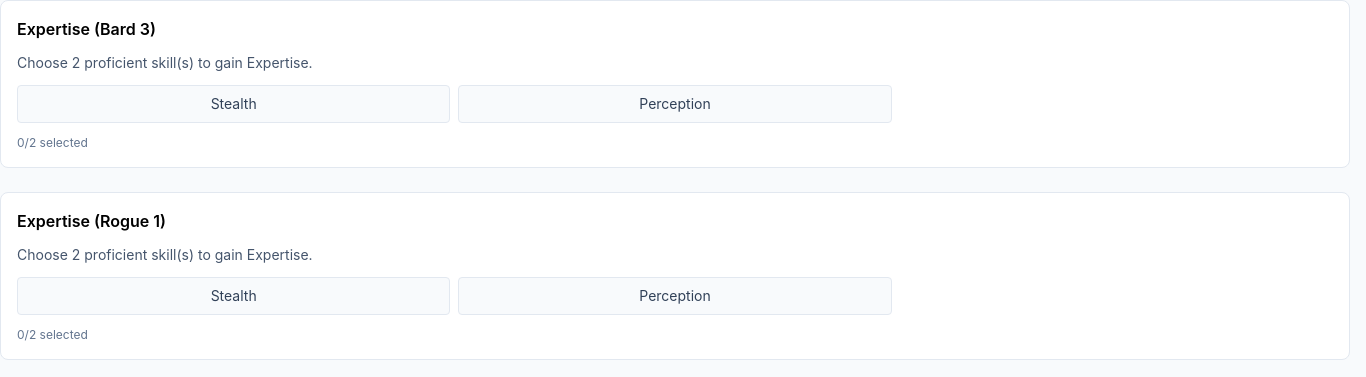
ProgressionChoicesStep › prevents the same skill from satisfying multiple expertise entitlements
Check: the text "Expertise (Bard 3)" is shown, box [0,0,1350,168]
Check: the text "Expertise (Rogue 1)" is shown, box [0,192,1350,360]
Click the button "Stealth" below "Bard 3".
click(234, 104)  # box [17,85,450,123]
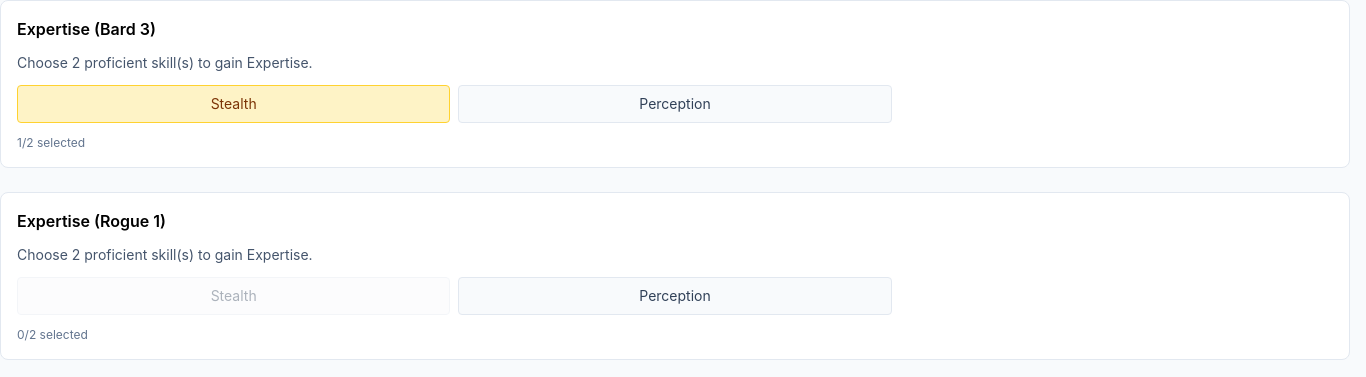
Check: the button "Stealth" below "Rogue 1" is disabled, box [17,277,450,315]
